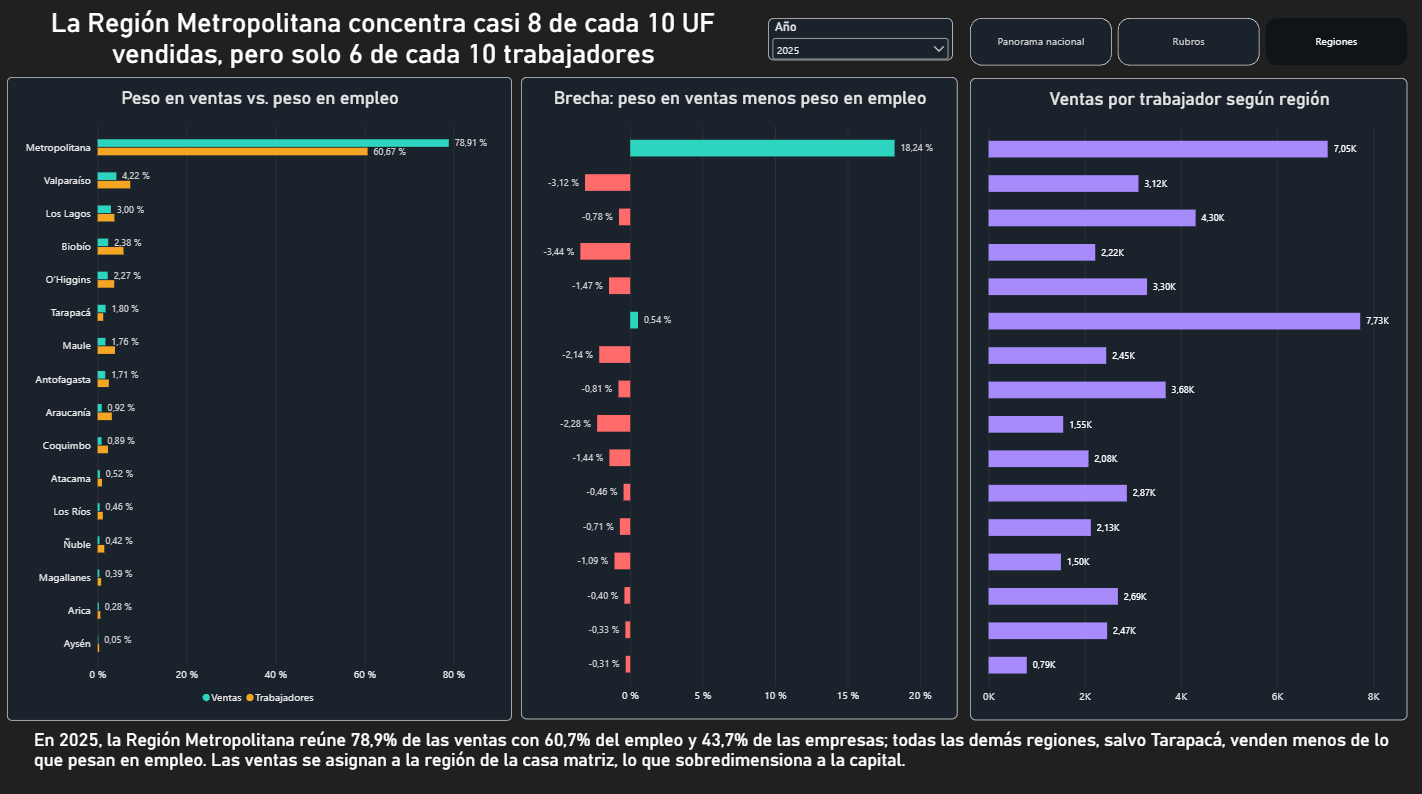

The page's visual inventory and layout, read from the dashboard file:
{"tool":"powerbi","page":{"name":"Regiones","canvas":[1920,1080],"ordinal":2},"visuals":[{"type":"slicer","fields":{"Values":["Dim_Año.Año Comercial"]},"box":[1037.3,26.3,249.5,56.9],"z":0},{"type":"textbox","title":"La Región Metropolitana concentra casi 8 de cada 10 UF vendidas, pero solo 6 de cada 10 trabajadores","box":[0,11.7,1037.3,108],"z":1000},{"type":"textbox","title":"En 2025, la Región Metropolitana reúne 78,9% de las ventas con 60,7% del empleo y 43,7% de las empresas; todas las demás regiones, salvo Tarapacá, venden menos de lo que pesan en empleo. Las ventas se","box":[48.1,986.3,1850,68.6],"z":2000},{"type":"clusteredBarChart","title":"Peso en ventas vs. peso en empleo","fields":{"Category":["Dim_Region.Región del domicilio Abreviado"],"Y":["_medidas.Participación Ventas Región %","_medidas.Participación Trabajadores Región %"]},"box":[11.7,106.5,679.9,866.6],"z":3000},{"type":"clusteredBarChart","title":"Brecha: peso en ventas menos peso en empleo","fields":{"Category":["Dim_Region.Región del domicilio Abreviado"],"Y":["_medidas.Ventas vs Empleo (pp)"]},"box":[704.7,106.5,588,865.2],"z":4000},{"type":"clusteredBarChart","title":"Ventas por trabajador según región","fields":{"Category":["Dim_Region.Región del domicilio Abreviado"],"Y":["_medidas.Ventas por Trabajador UF"]},"box":[1308.7,108,589.4,865.2],"z":5000},{"type":"pageNavigator","box":[1308.7,26.3,589.4,64.2],"z":6000}]}

Visuals, with their boxes in screenshot pixels (x1, y1, x2, y2), scaled from the page's 1920x1080 canvas onto the 1422x794 screenshot:
slicer - Dim_Año.Año Comercial: Rect(768, 19, 953, 61)
"La Región Metropolitana concentra casi 8 de cada 10 UF vendidas, pero solo 6 de cada 10 trabajadores" textbox: Rect(0, 9, 768, 88)
"En 2025, la Región Metropolitana reúne 78,9% de las ventas con 60,7% del empleo y 43,7% de las empresas; todas las demás regiones, salvo Tarapacá, venden menos de lo que pesan en empleo. Las ventas se" textbox: Rect(36, 725, 1406, 776)
"Peso en ventas vs. peso en empleo" clusteredBarChart: Rect(9, 78, 512, 715)
"Brecha: peso en ventas menos peso en empleo" clusteredBarChart: Rect(522, 78, 957, 714)
"Ventas por trabajador según región" clusteredBarChart: Rect(969, 79, 1406, 715)
pageNavigator: Rect(969, 19, 1406, 67)
